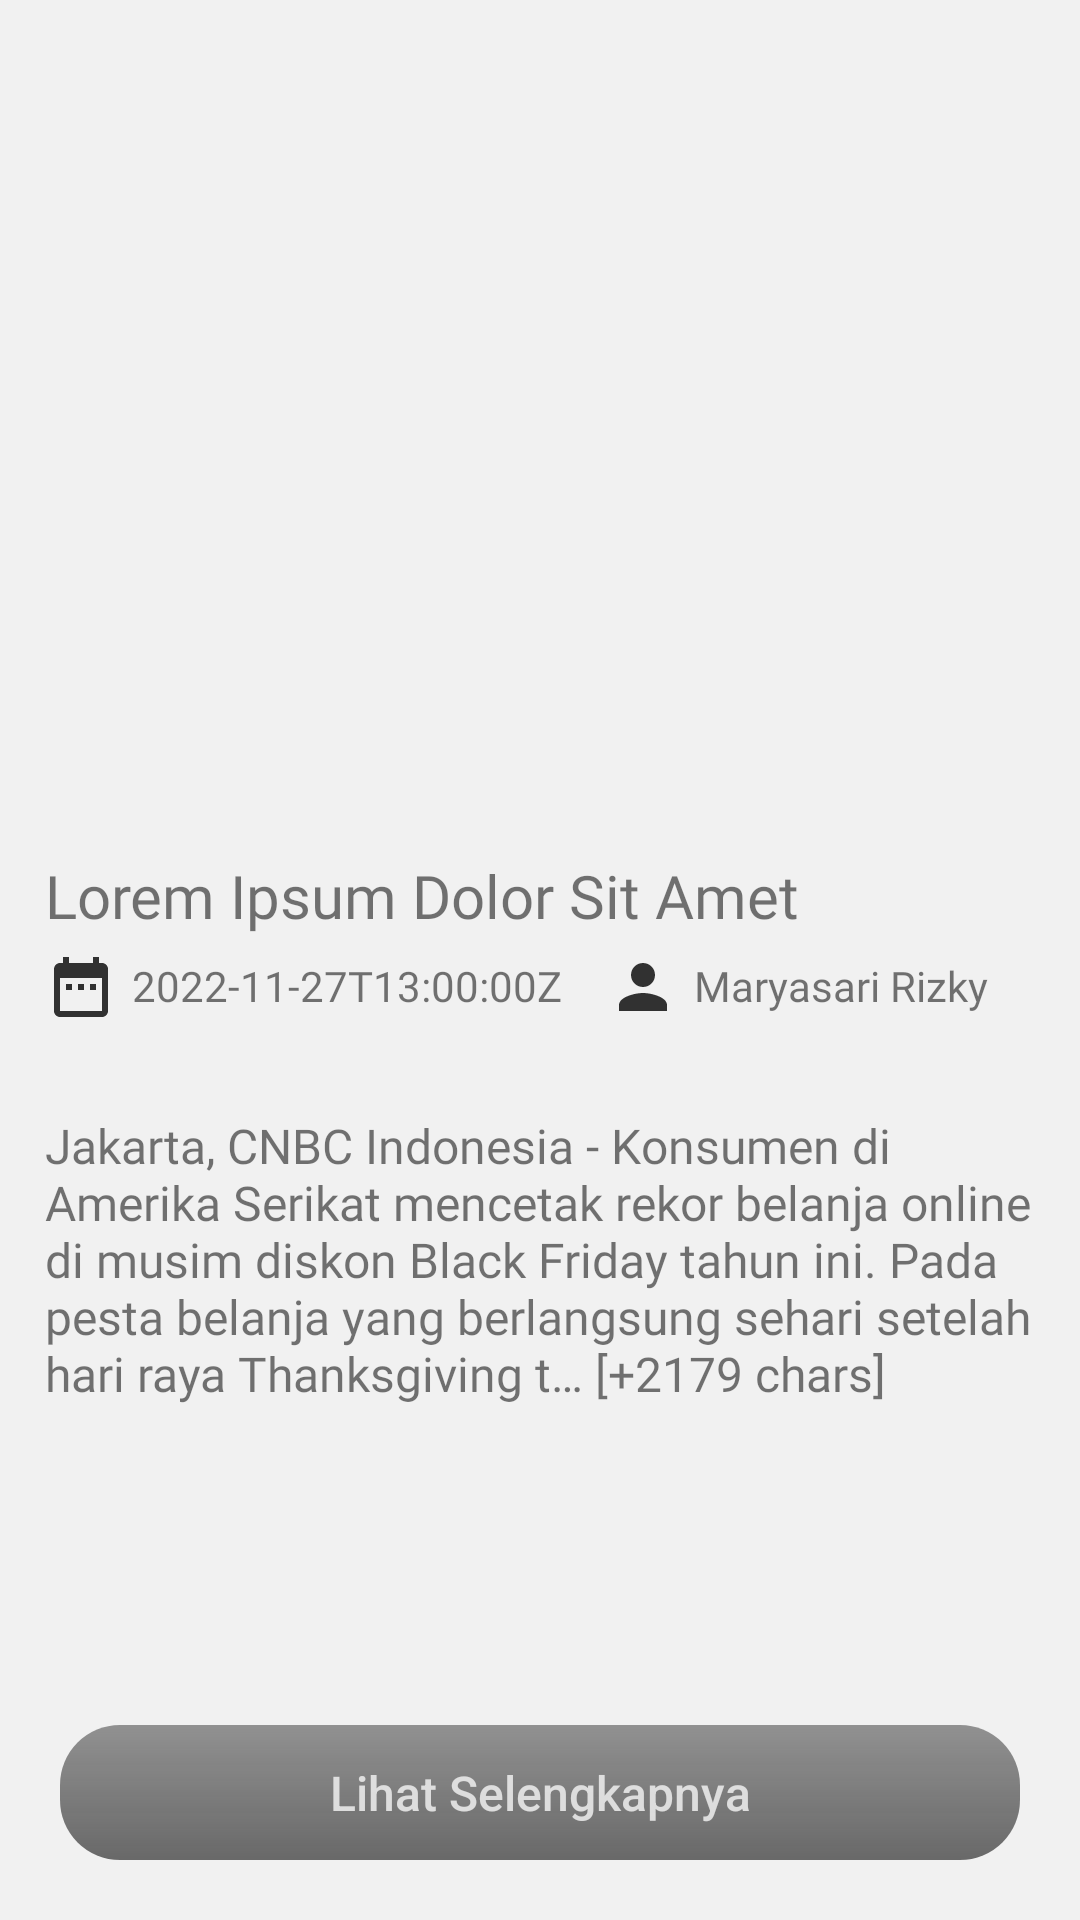

Icon bounding boxes for this 1080 x 1920 phone screenshot, format rect(x1, y1, x2, y2):
author: rect(619, 963, 667, 1011)
date: rect(54, 957, 108, 1017)
